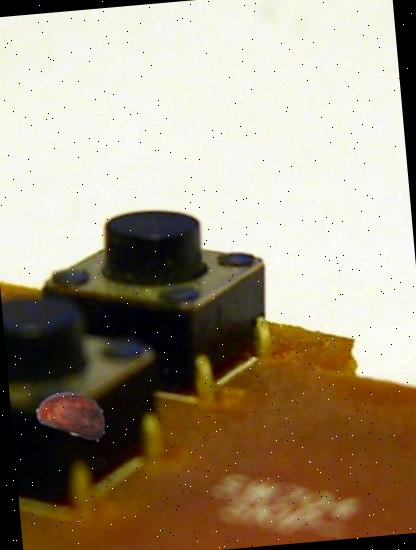Chestnut: (35, 374, 113, 453)
